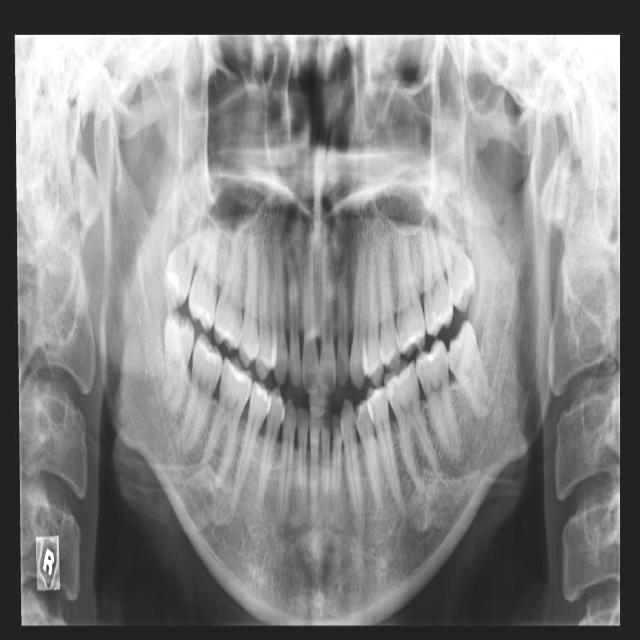impacted tooth: (150, 314, 196, 417), (445, 322, 496, 414)
